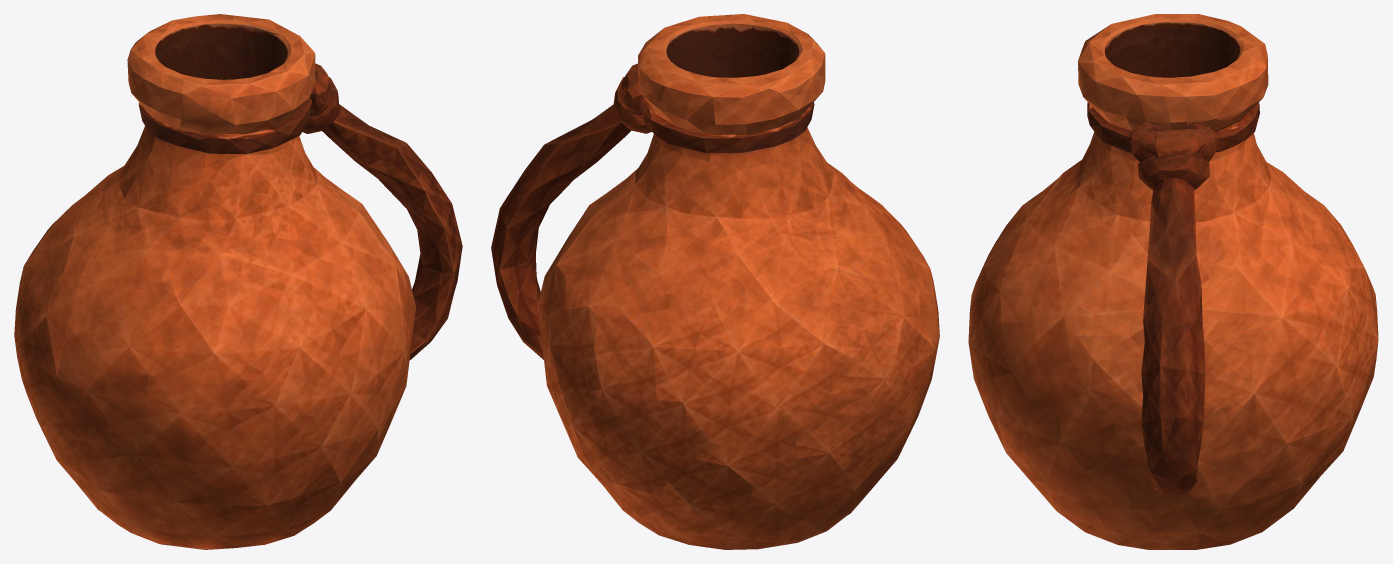
Rendered from water-jug.glb.
3 renders of one model, left to right at view 1: azimuth 30°, elevation 25°; view 2: azimuth 150°, elevation 25°; view 3: azimuth 270°, elevation 25°, orthographic.
Bounding box in the file's own units: 1.84 × 1.9 × 1.54.
Materials: 1 (1 with a texture image).
